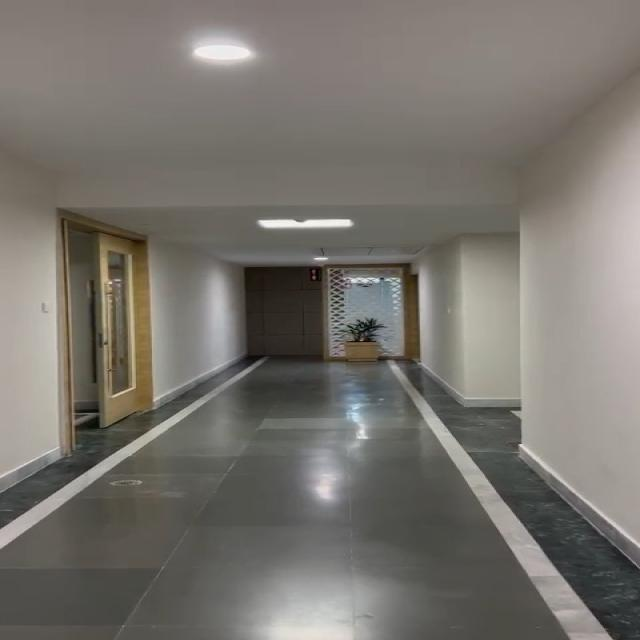door: (46, 213, 157, 442), (251, 257, 422, 361)
floor: (19, 463, 588, 640), (208, 366, 411, 458)
furniture: (320, 308, 390, 362)
wall: (8, 0, 554, 215), (448, 40, 640, 539)
